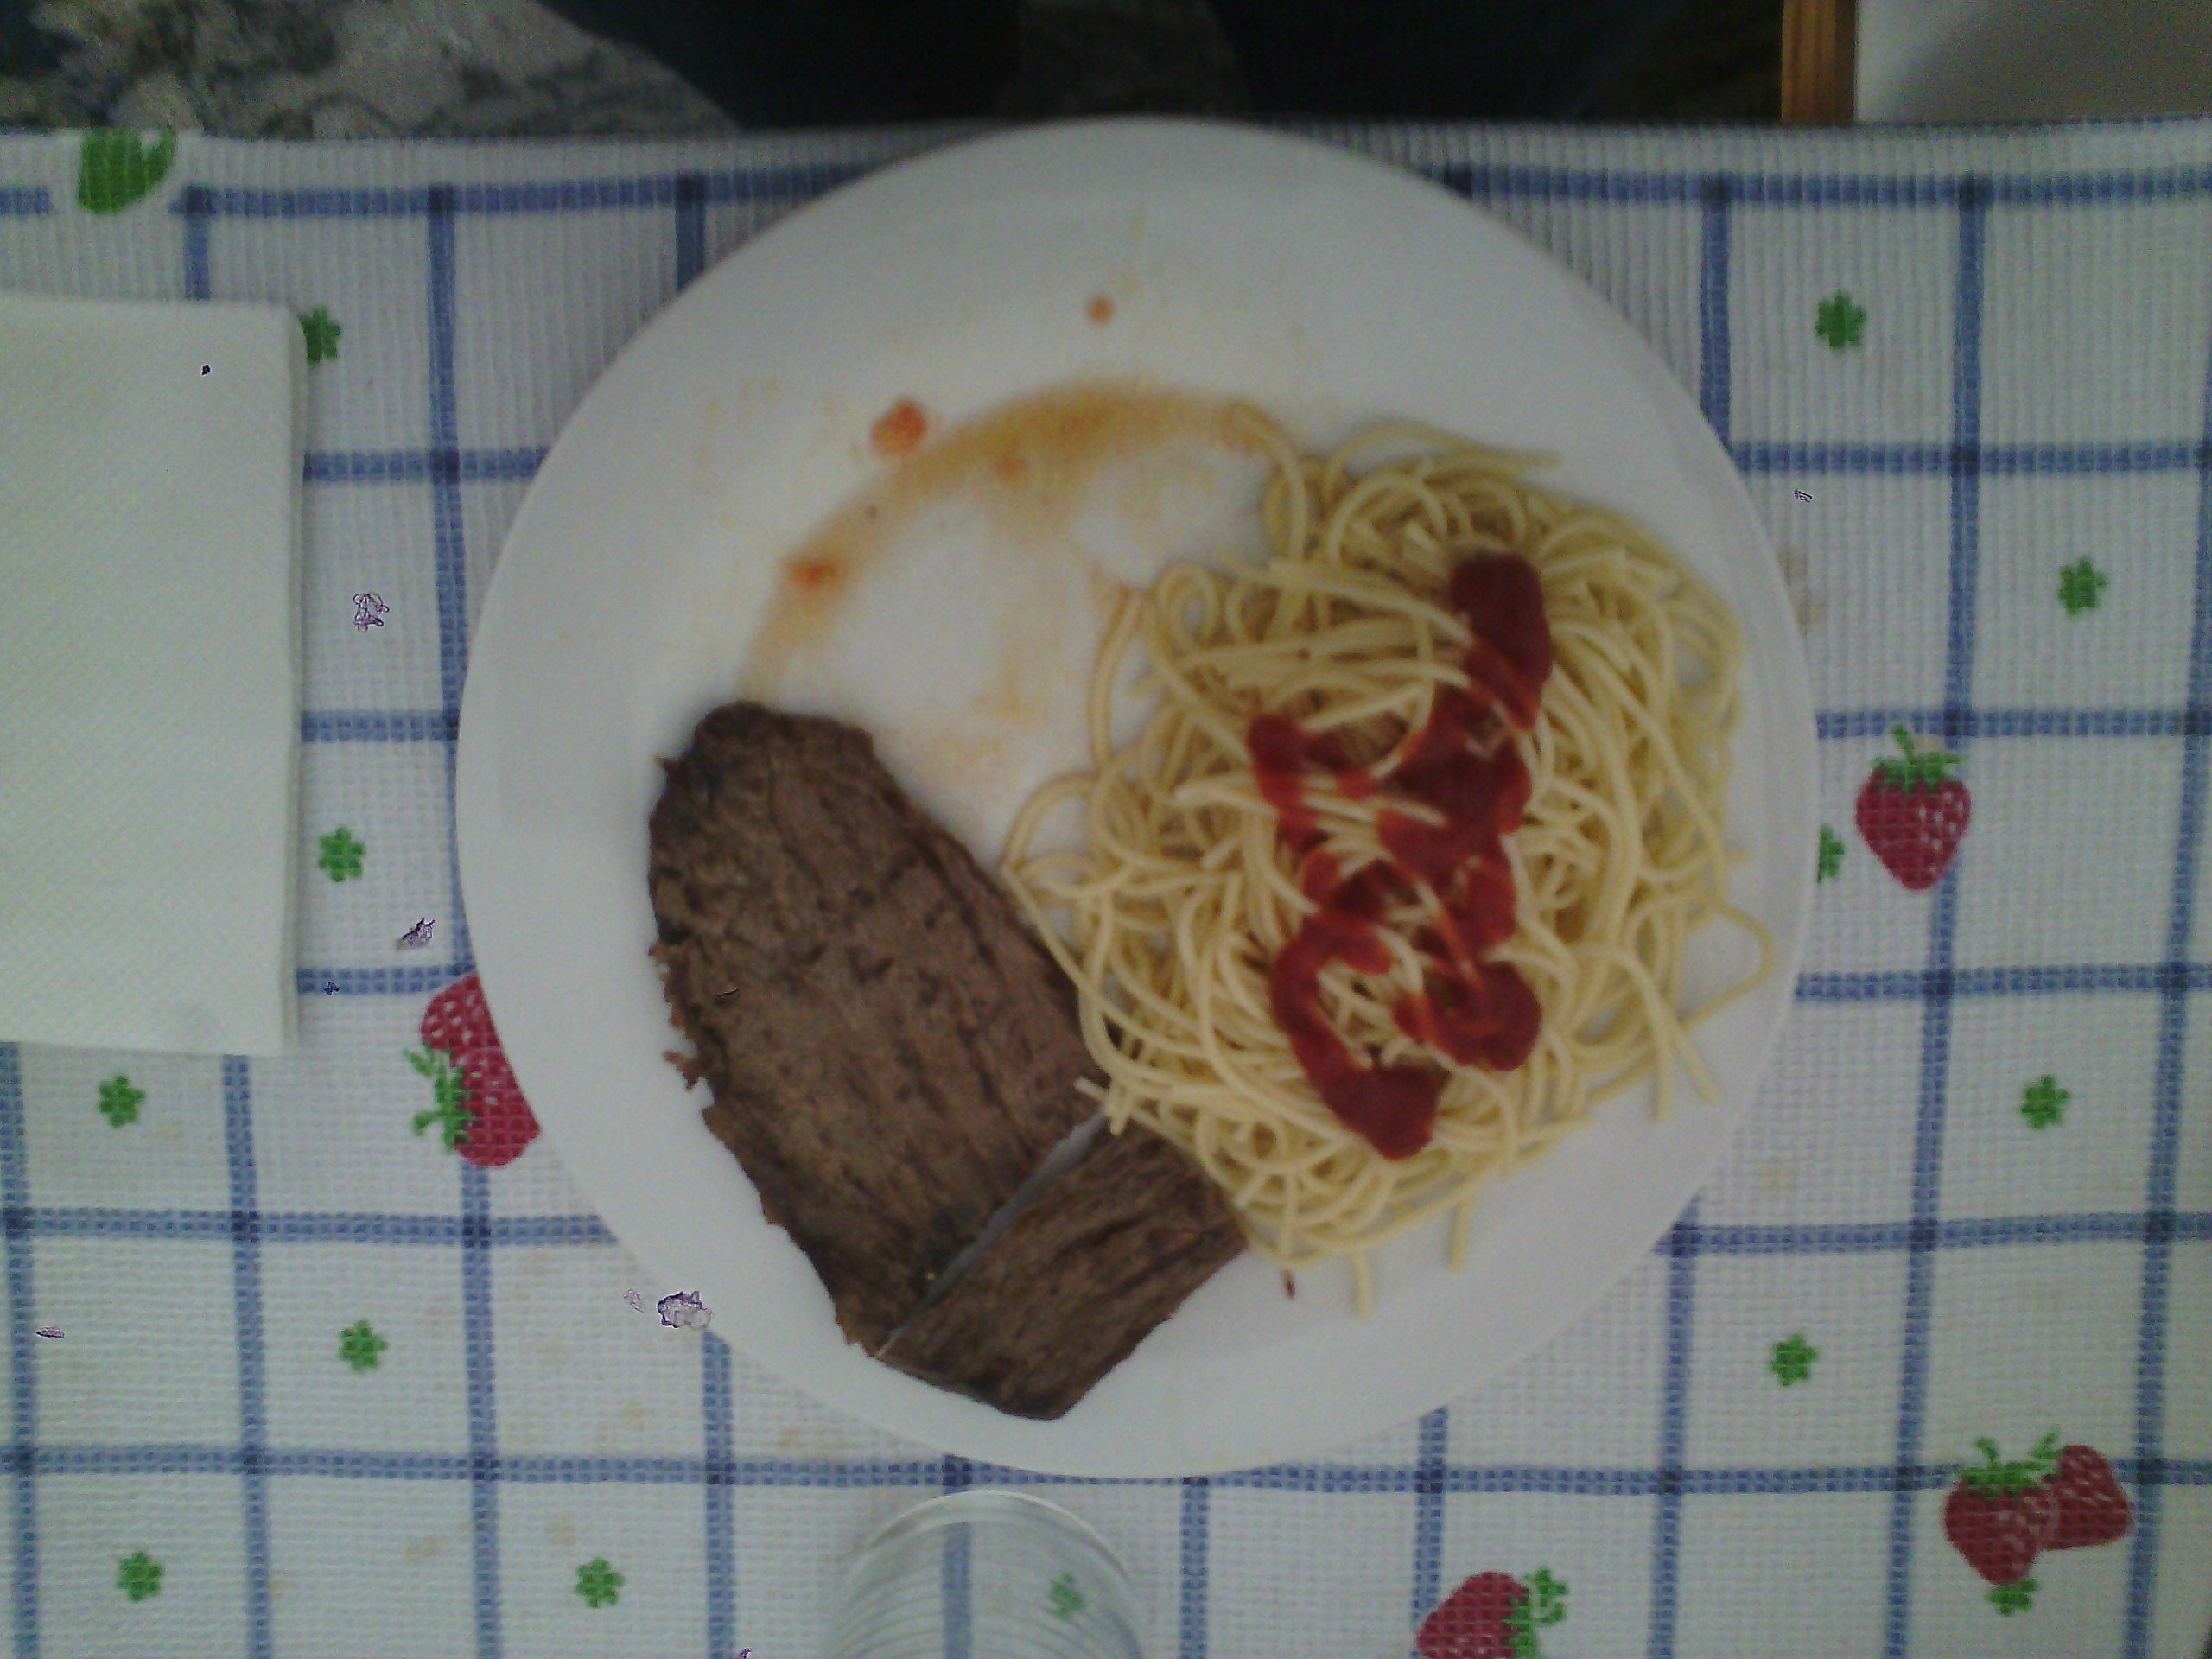61-80: (465, 118, 1839, 1502)
